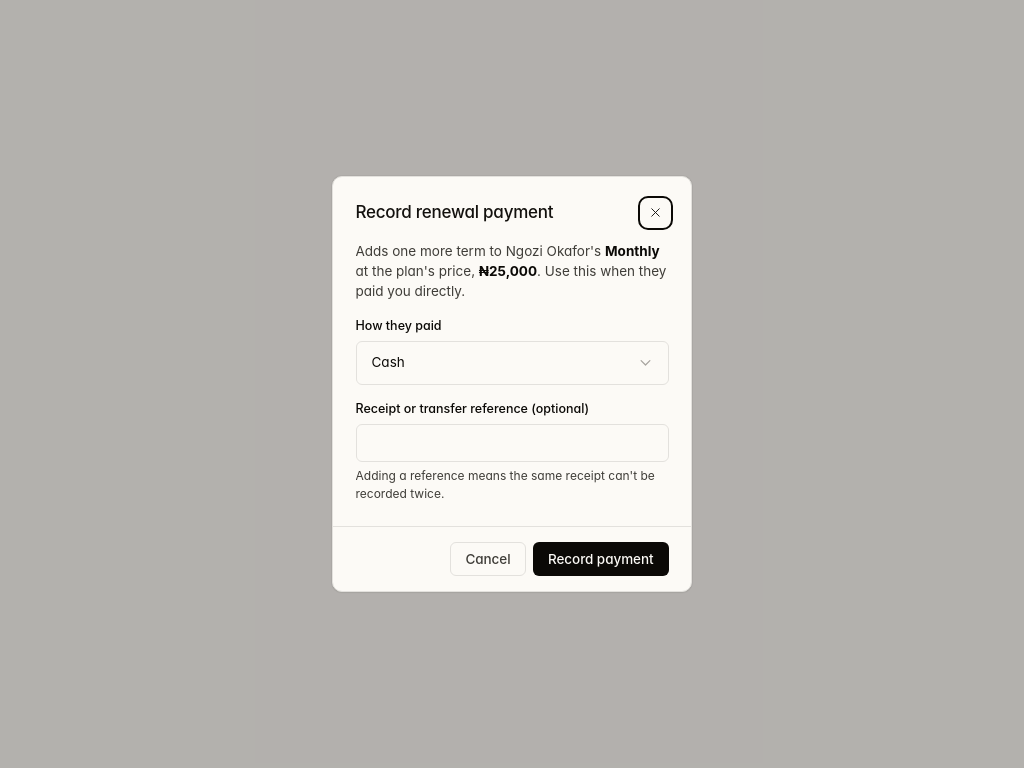
Test case: Record renewal payment (gym staff) › explains a missing permission
Click the button "Record payment": (601, 559) [533,542,668,576]
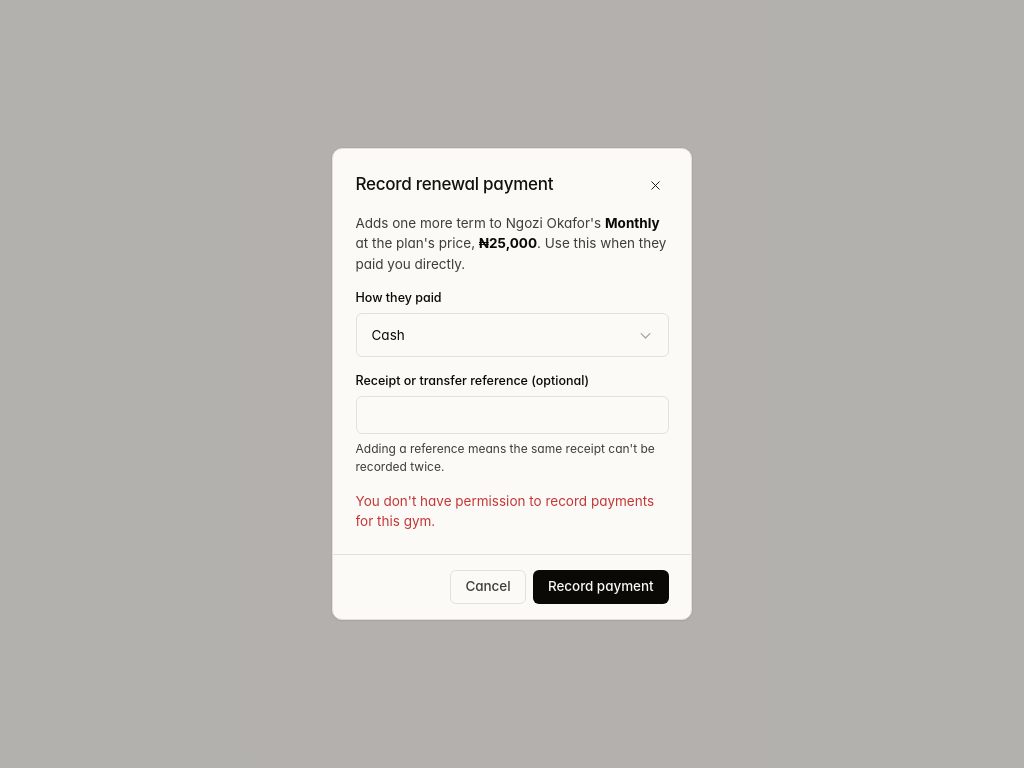
Result: the message shows "You don't have permission to record payments" at [356,493,654,529]
